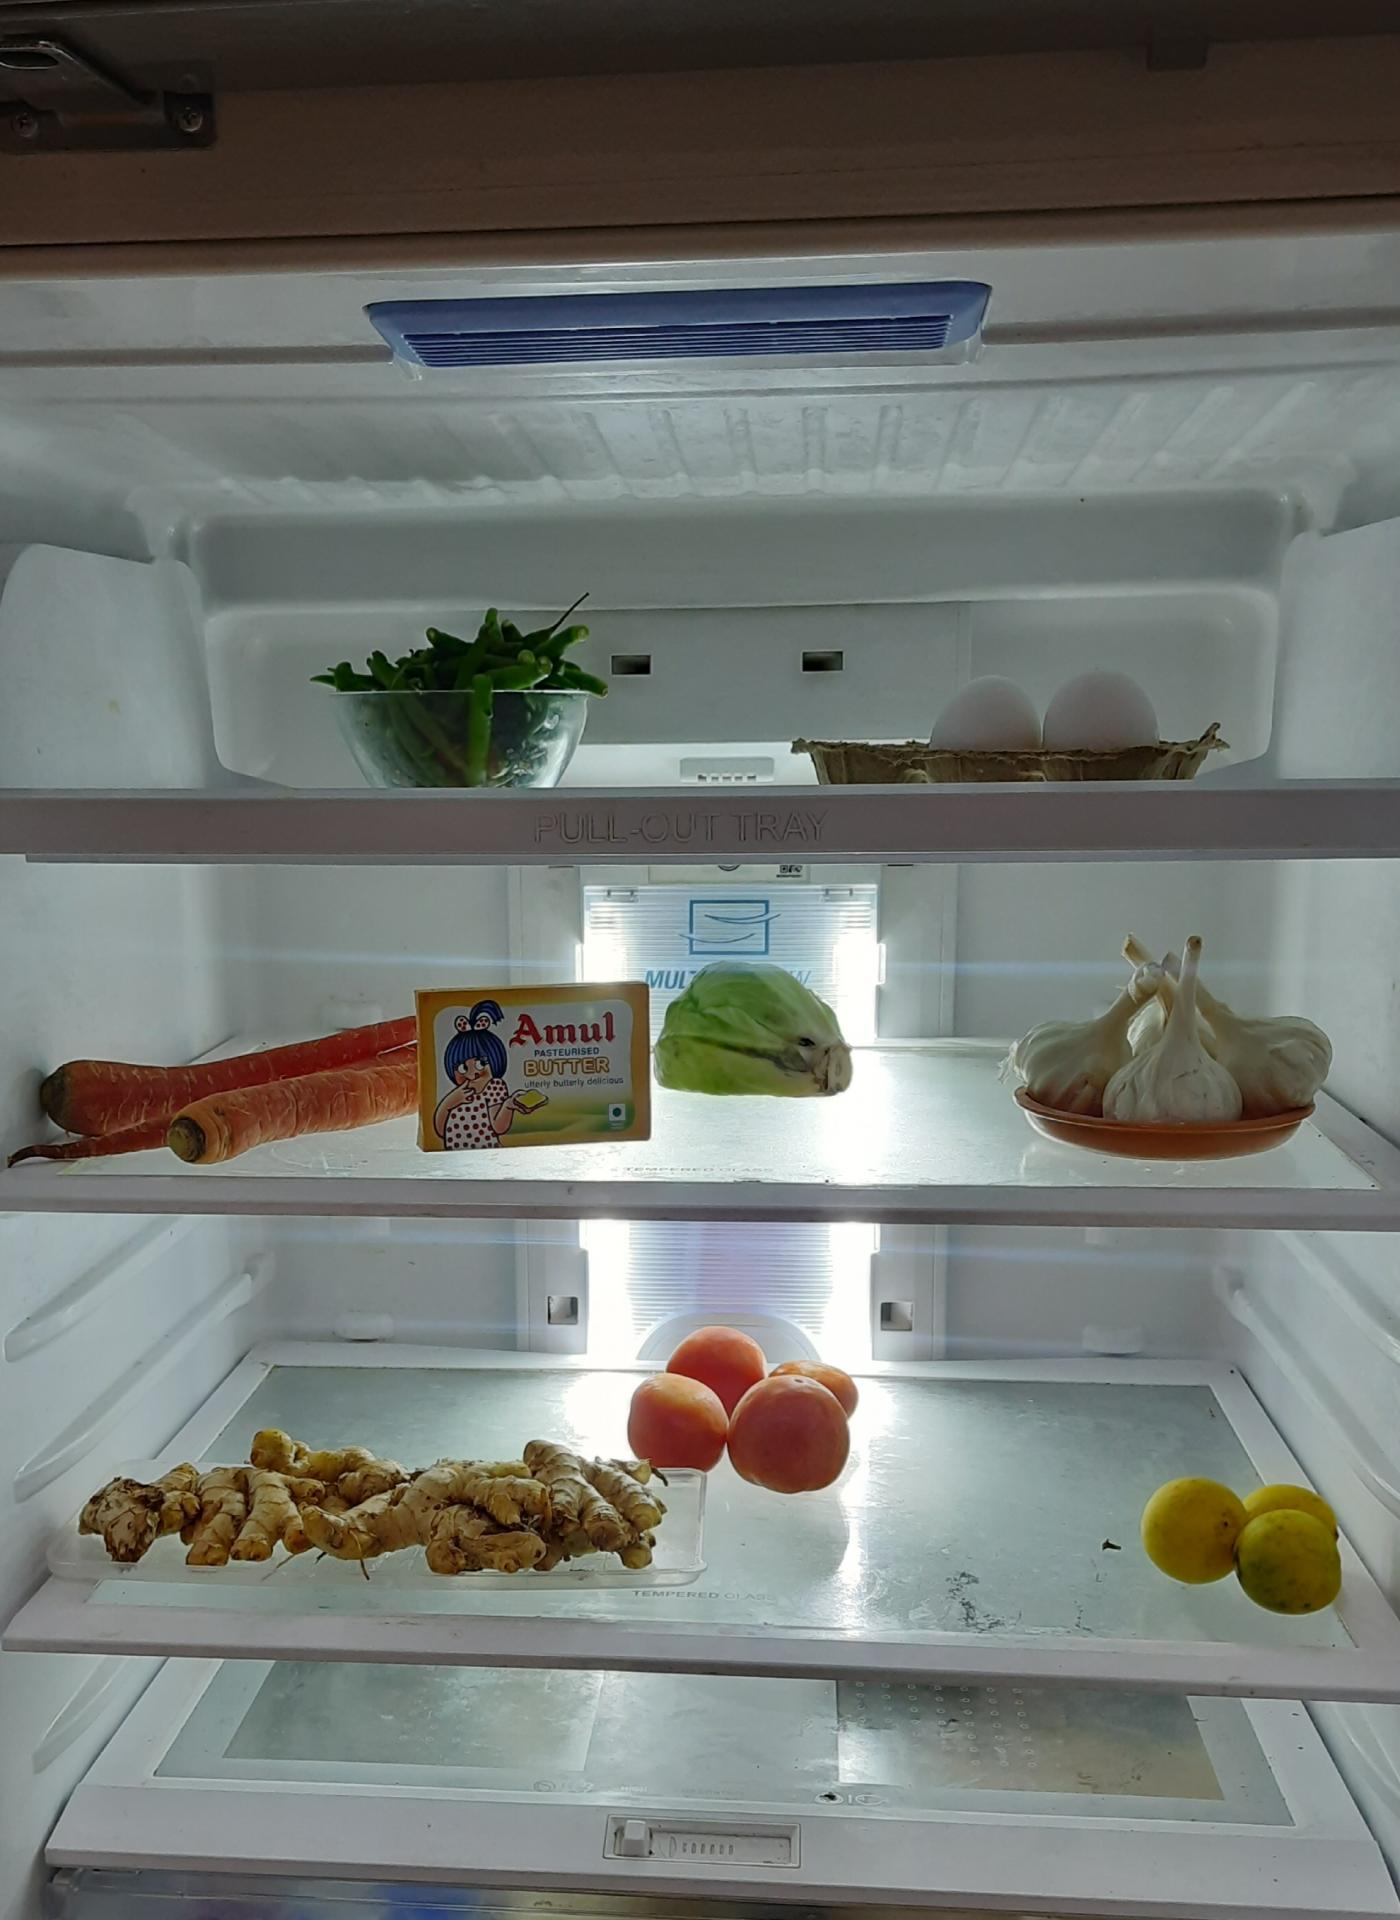butter: (423, 981, 647, 1151)
cabbage: (661, 968, 857, 1102)
carrots: (24, 1018, 431, 1175)
chillies: (314, 596, 608, 775)
egg: (931, 666, 1159, 754)
garlic: (1027, 934, 1317, 1137)
ginger: (75, 1423, 664, 1579)
lemon: (1136, 1468, 1353, 1620)
tomato: (634, 1320, 865, 1479)
